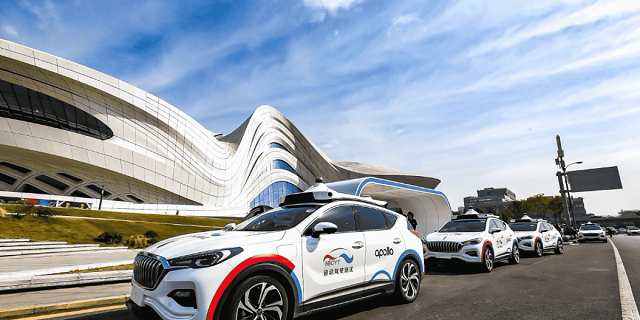car: (132, 201, 425, 320), (423, 212, 521, 272), (509, 216, 564, 258), (578, 223, 607, 243)
pole: (556, 171, 573, 227)
